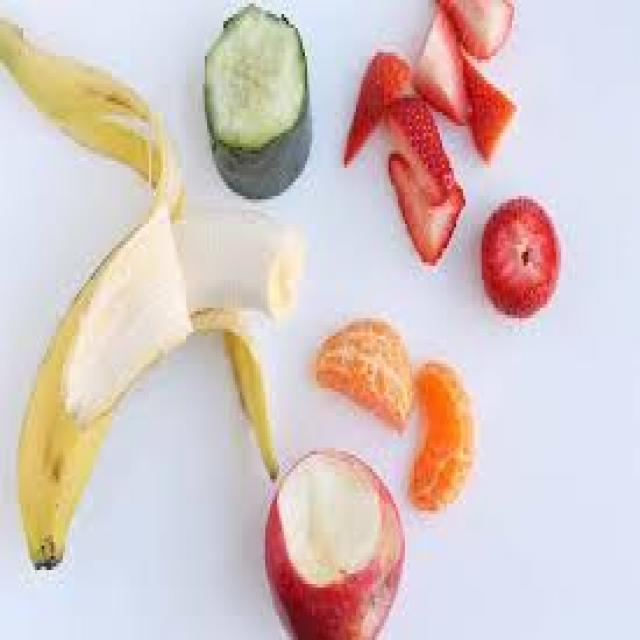organic waste: (0, 18, 298, 566), (263, 444, 398, 637), (200, 0, 309, 192), (312, 315, 409, 423), (477, 189, 559, 315), (410, 357, 472, 507), (389, 147, 463, 259), (338, 42, 400, 161), (384, 91, 454, 196), (408, 3, 466, 122), (458, 46, 512, 158), (437, 0, 512, 59)
